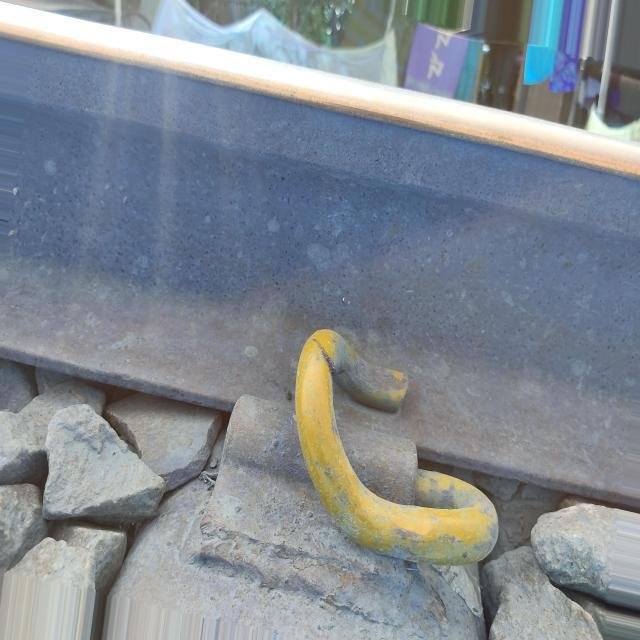Good Fasteners: (188, 324, 502, 619)
